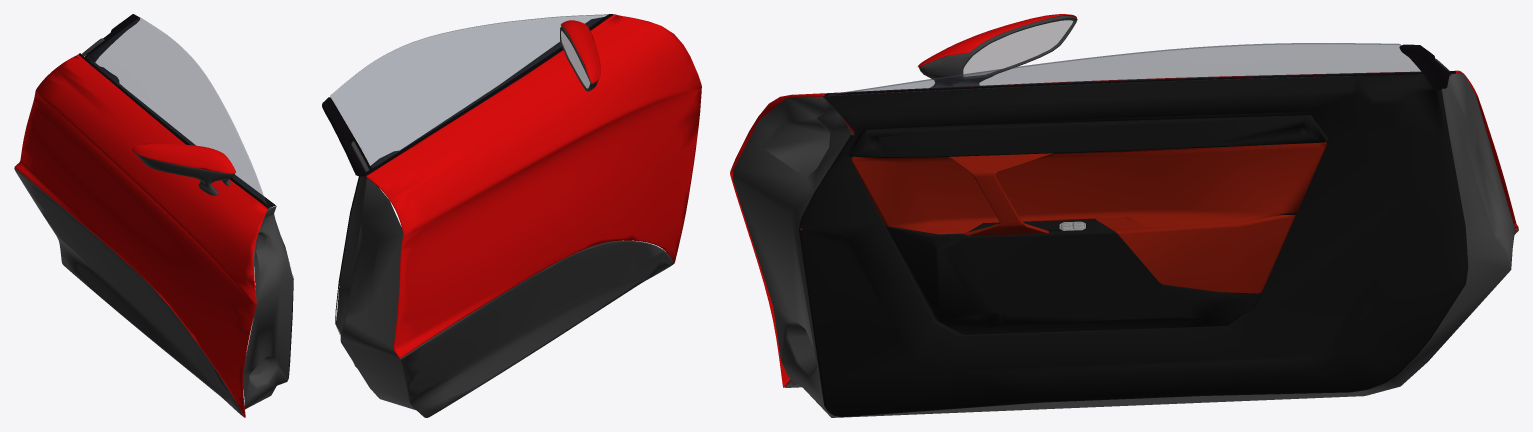
The picture shows the model from 3 angles, left to right: view 1: azimuth 30°, elevation 25°; view 2: azimuth 150°, elevation 25°; view 3: azimuth 270°, elevation 25°; orthographic projection. The views are drawn at different scales.
Parts seen in each view (by area): view 1: BodyDoorRColor1, BodyDoorRWindow, BodyDoorRColor2, InteriorDoorR01, BodyDoorRHandle01; view 2: BodyDoorRColor1, BodyDoorRColor2, BodyDoorRWindow, InteriorDoorR01, BodyDoorRHandle01, BodyDoorRMirror; view 3: InteriorDoorR01, InteriorDoorR03, BodyDoorRWindow, BodyDoorRColor1, BodyDoorRHandle01, BodyDoorRMirror, BodyDoorRColor2.
Boxes of the visible parts, left/top/right/bottom form: BodyDoorRColor1: left=14, top=54, right=267, bottom=417; BodyDoorRWindow: left=86, top=17, right=266, bottom=204; BodyDoorRColor2: left=14, top=38, right=243, bottom=416; InteriorDoorR01: left=90, top=61, right=293, bottom=409; BodyDoorRHandle01: left=78, top=14, right=267, bottom=207; BodyDoorRColor1: left=366, top=14, right=701, bottom=358; BodyDoorRColor2: left=351, top=26, right=673, bottom=417; BodyDoorRWindow: left=330, top=14, right=607, bottom=168; InteriorDoorR01: left=335, top=17, right=603, bottom=409; BodyDoorRHandle01: left=322, top=14, right=613, bottom=176; BodyDoorRMirror: left=561, top=30, right=590, bottom=88; InteriorDoorR01: left=732, top=72, right=1515, bottom=417; InteriorDoorR03: left=850, top=142, right=1327, bottom=293; BodyDoorRWindow: left=828, top=43, right=1421, bottom=95; BodyDoorRColor1: left=730, top=14, right=1518, bottom=387; BodyDoorRHandle01: left=824, top=44, right=1455, bottom=95; BodyDoorRMirror: left=963, top=20, right=1073, bottom=76; BodyDoorRColor2: left=785, top=16, right=1518, bottom=387.
Size of the model in its own units: 0.4344 by 0.9594 by 1.67.
Materials: 9 (1 with a texture image).
